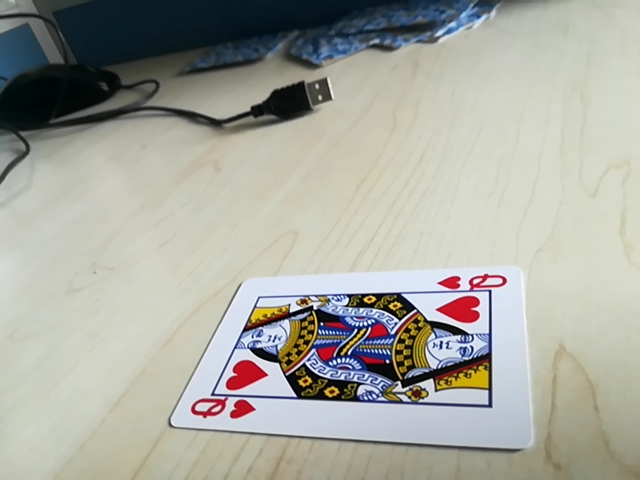hx q: (185, 396, 261, 426), (436, 269, 509, 295)
